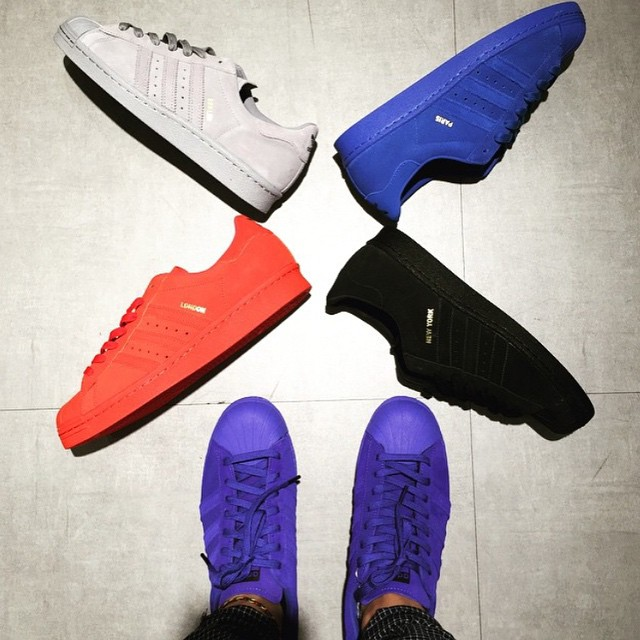sneaker: (327, 379, 473, 638), (181, 383, 322, 636)
